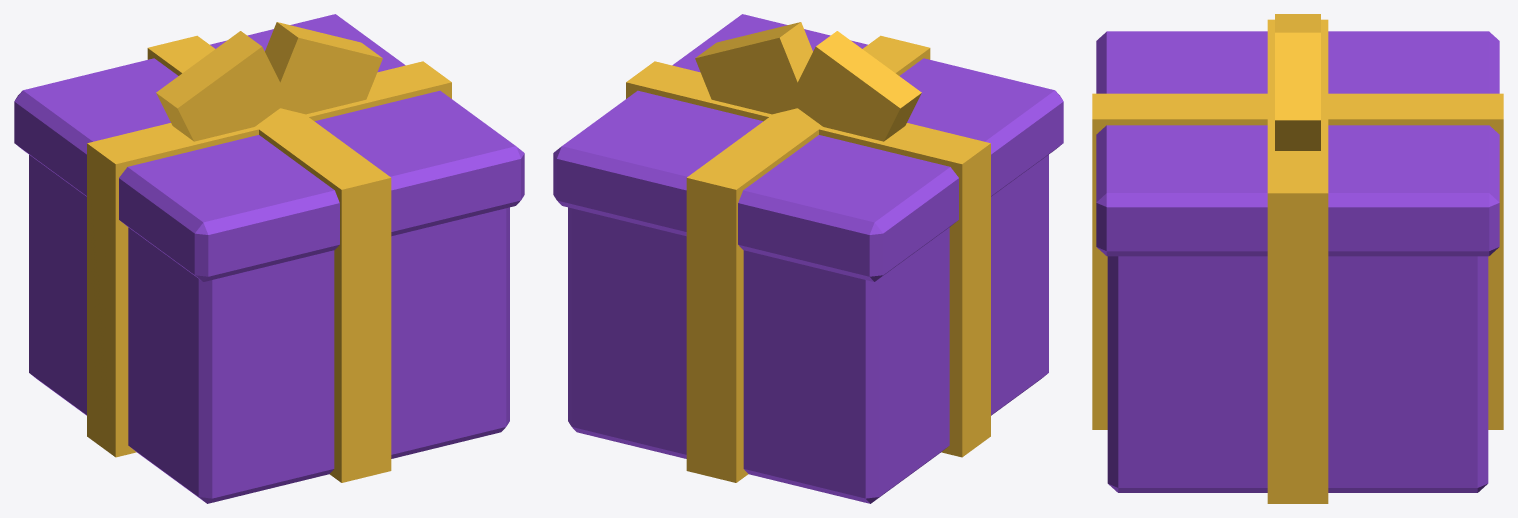
The model's file is PurpleGift.fbx.
3 views of the same model, side by side, from view 1: azimuth 30°, elevation 25°; view 2: azimuth 150°, elevation 25°; view 3: azimuth 270°, elevation 25° (orthographic). The views are drawn at different scales.
Visible parts, largest first — view 1: PurpleGift; view 2: PurpleGift; view 3: PurpleGift.
Part boxes in pixels (box(x1,y1,x2,y2)): PurpleGift: box(14, 14, 524, 503); PurpleGift: box(553, 14, 1063, 503); PurpleGift: box(1092, 14, 1503, 503).
Bounding box in the file's own units: 1.94 × 2.05 × 1.94.
Materials: 1 (1 with a texture image).
